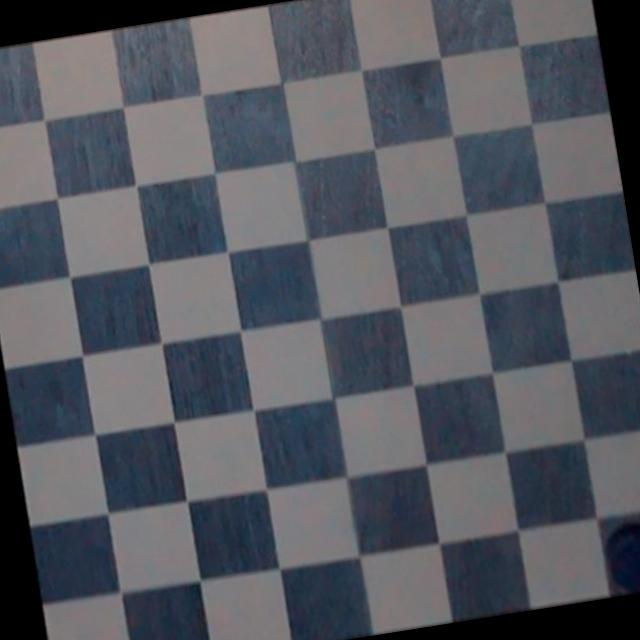BOARD: (0, 0, 640, 640)
black: (594, 512, 640, 598)
